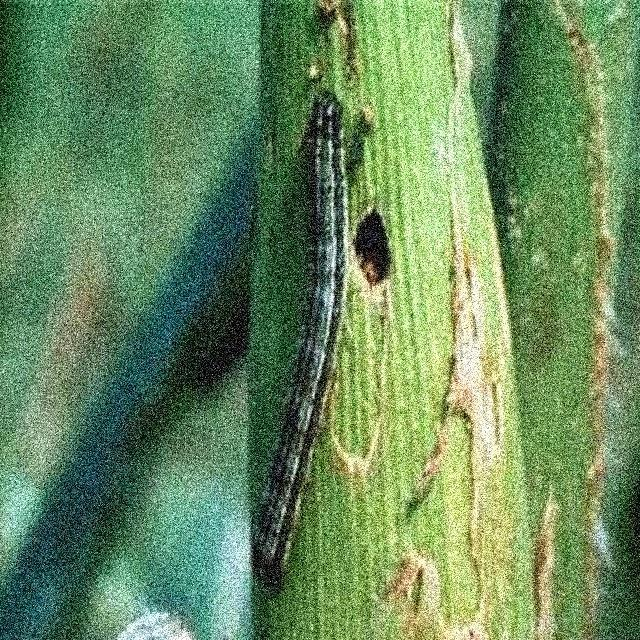Plaga: (245, 86, 354, 590)
